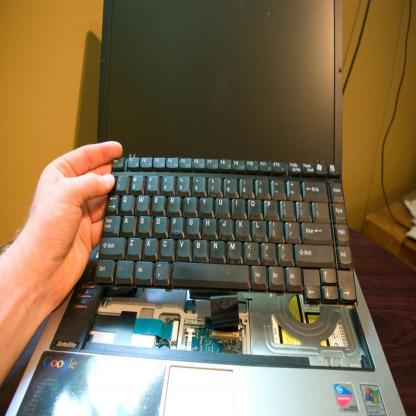board: (4, 2, 403, 416)
